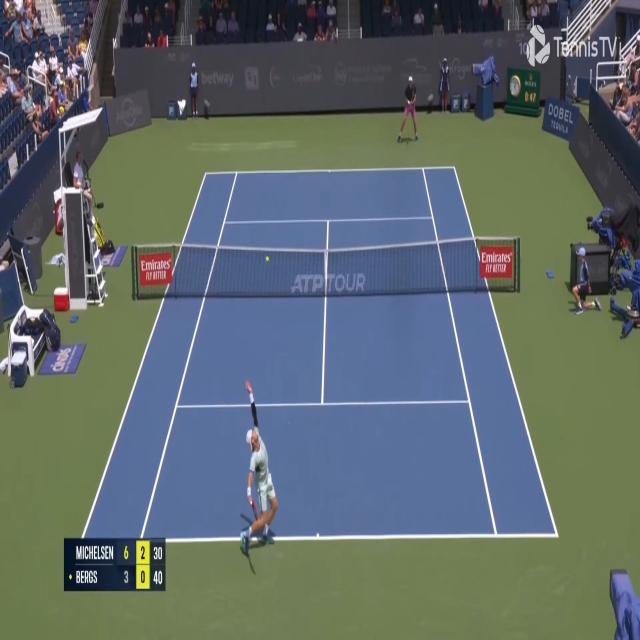tennis-player: (238, 370, 280, 573), (397, 75, 419, 144)
